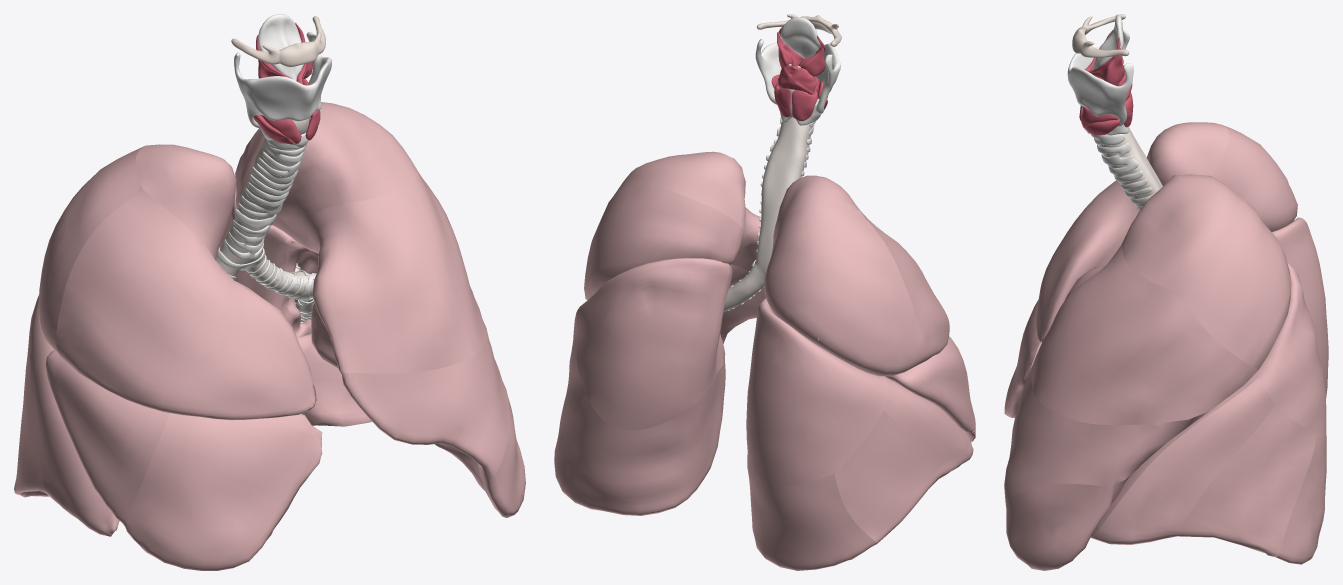
Rendered from lungs.glb.
3 renders of one model, left to right at view 1: azimuth 30°, elevation 25°; view 2: azimuth 150°, elevation 25°; view 3: azimuth 270°, elevation 25°, orthographic. The views are drawn at different scales.
Visible parts, largest first — view 1: VH_M_right_anterior_bronchopulmonary_segment, VH_M_left_anterior_bronchopulmonary_segment, VH_M_right_medial_bronchopulmonary_segment, VH_M_left_lingula_superior_bronchopulmonary_segment, VH_M_left_apical_bronchopulmonary_segment, VH_M_right_lateral_bronchopulmonary_segment, VH_M_right_apical_bronchopulmonary_segment, VH_M_right_posterior_bronchopulmonary_segment, VH_M_right_anterior_basal_bronchopulmonary_segment, VH_M_thyroid_cartilage, VH_M_tracheal_cartilage, VH_M_left_lingula_inferior_bronchopulmonary_segment (+10 smaller); view 2: VH_M_left_superior_bronchopulmonary_segment, VH_M_right_posterior_bronchopulmonary_segment, VH_M_right_superior_bronchopulmonary_segment, VH_M_left_posetrior_basal_bronchopulmonary_segment, VH_M_left_posterior_bronchopulmonary_segment, VH_M_right_posterior_basal_bronchopulmonary_segment, VH_M_right_lateral_basal_bronchopulmonary_segment, VH_M_left_apical_bronchopulmonary_segment, VH_M_right_anterior_basal_bronchopulmonary_segment, VH_M_trachea, VH_M_right_lateral_bronchopulmonary_segment, VH_M_right_anterior_bronchopulmonary_segment (+10 smaller); view 3: VH_M_left_anterior_bronchopulmonary_segment, VH_M_left_lateral_basal_bronchopulmonary_segment, VH_M_left_posterior_bronchopulmonary_segment, VH_M_left_anterior_basal_bronchopulmonary_segment, VH_M_left_lingula_superior_bronchopulmonary_segment, VH_M_left_apical_bronchopulmonary_segment, VH_M_left_lingula_inferior_bronchopulmonary_segment, VH_M_right_anterior_bronchopulmonary_segment, VH_M_left_superior_bronchopulmonary_segment, VH_M_right_posterior_bronchopulmonary_segment, VH_M_right_apical_bronchopulmonary_segment, VH_M_left_posetrior_basal_bronchopulmonary_segment (+10 smaller).
Boxes of the visible parts, left/top/right/bottom form: VH_M_right_anterior_bronchopulmonary_segment: left=56, top=190, right=316, bottom=420; VH_M_left_anterior_bronchopulmonary_segment: left=307, top=172, right=487, bottom=373; VH_M_right_medial_bronchopulmonary_segment: left=125, top=413, right=322, bottom=570; VH_M_left_lingula_superior_bronchopulmonary_segment: left=339, top=331, right=508, bottom=478; VH_M_left_apical_bronchopulmonary_segment: left=240, top=102, right=418, bottom=241; VH_M_right_lateral_bronchopulmonary_segment: left=45, top=350, right=170, bottom=526; VH_M_right_apical_bronchopulmonary_segment: left=135, top=144, right=236, bottom=260; VH_M_right_posterior_bronchopulmonary_segment: left=38, top=146, right=144, bottom=356; VH_M_right_anterior_basal_bronchopulmonary_segment: left=30, top=342, right=119, bottom=536; VH_M_thyroid_cartilage: left=234, top=31, right=331, bottom=128; VH_M_tracheal_cartilage: left=224, top=139, right=307, bottom=259; VH_M_left_lingula_inferior_bronchopulmonary_segment: left=311, top=319, right=525, bottom=517; VH_M_left_superior_bronchopulmonary_segment: left=576, top=258, right=732, bottom=430; VH_M_right_posterior_bronchopulmonary_segment: left=764, top=207, right=926, bottom=376; VH_M_right_superior_bronchopulmonary_segment: left=746, top=298, right=888, bottom=485; VH_M_left_posetrior_basal_bronchopulmonary_segment: left=554, top=360, right=725, bottom=515; VH_M_left_posterior_bronchopulmonary_segment: left=586, top=174, right=744, bottom=296; VH_M_right_posterior_basal_bronchopulmonary_segment: left=747, top=452, right=876, bottom=570; VH_M_right_lateral_basal_bronchopulmonary_segment: left=834, top=410, right=937, bottom=543; VH_M_left_apical_bronchopulmonary_segment: left=625, top=151, right=745, bottom=229; VH_M_right_anterior_basal_bronchopulmonary_segment: left=883, top=376, right=973, bottom=479; VH_M_trachea: left=755, top=117, right=813, bottom=280; VH_M_right_lateral_bronchopulmonary_segment: left=885, top=336, right=974, bottom=433; VH_M_right_anterior_bronchopulmonary_segment: left=860, top=211, right=949, bottom=360; VH_M_left_anterior_bronchopulmonary_segment: left=1031, top=244, right=1258, bottom=424; VH_M_left_lateral_basal_bronchopulmonary_segment: left=1177, top=405, right=1316, bottom=557; VH_M_left_posterior_bronchopulmonary_segment: left=1183, top=201, right=1291, bottom=369; VH_M_left_anterior_basal_bronchopulmonary_segment: left=1090, top=378, right=1275, bottom=544; VH_M_left_lingula_superior_bronchopulmonary_segment: left=1004, top=365, right=1252, bottom=500; VH_M_left_apical_bronchopulmonary_segment: left=1122, top=174, right=1246, bottom=299; VH_M_left_lingula_inferior_bronchopulmonary_segment: left=1005, top=473, right=1132, bottom=570; VH_M_right_anterior_bronchopulmonary_segment: left=1035, top=180, right=1138, bottom=342; VH_M_left_superior_bronchopulmonary_segment: left=1255, top=261, right=1326, bottom=439; VH_M_right_posterior_bronchopulmonary_segment: left=1212, top=125, right=1297, bottom=231; VH_M_right_apical_bronchopulmonary_segment: left=1137, top=122, right=1229, bottom=211; VH_M_left_posetrior_basal_bronchopulmonary_segment: left=1276, top=435, right=1326, bottom=564.
Size of the model in its own units: 0.2594 by 0.3146 by 0.1897.
